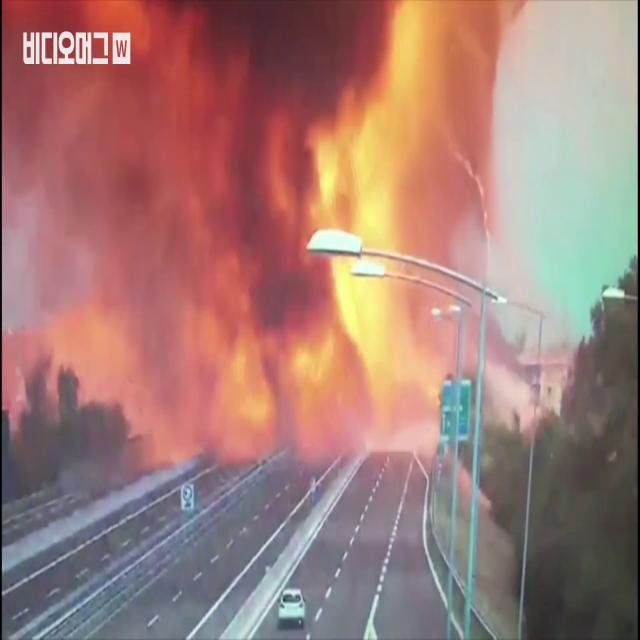explosion: (2, 3, 575, 523)
